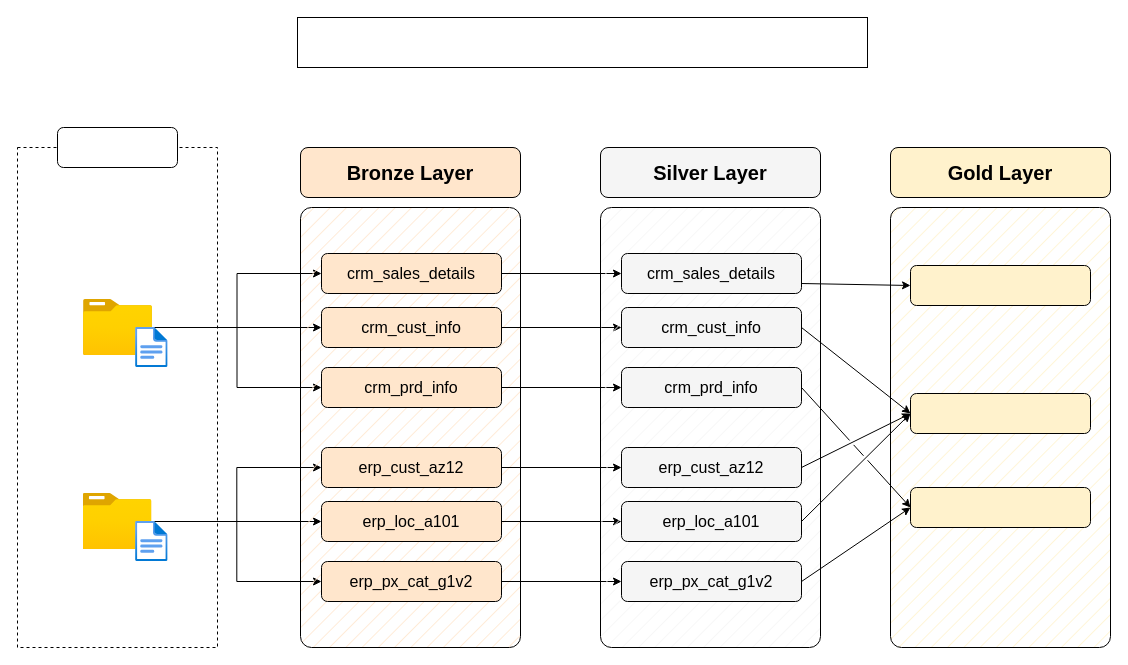
This 1128x665 diagram has some shape labels left out. The shapes that lost their labels are listed below. From the top down, each one's box as (x1, y1, x2, y2) in pixels, then its label:
(296, 16, 868, 68): Data Flow (data Lineage)
(56, 126, 178, 168): Sources
(910, 264, 1090, 306): fact_sales
(83, 299, 152, 355): CRM
(910, 392, 1090, 434): dim_customers
(82, 493, 152, 549): ERP
(910, 486, 1090, 528): dim_products
